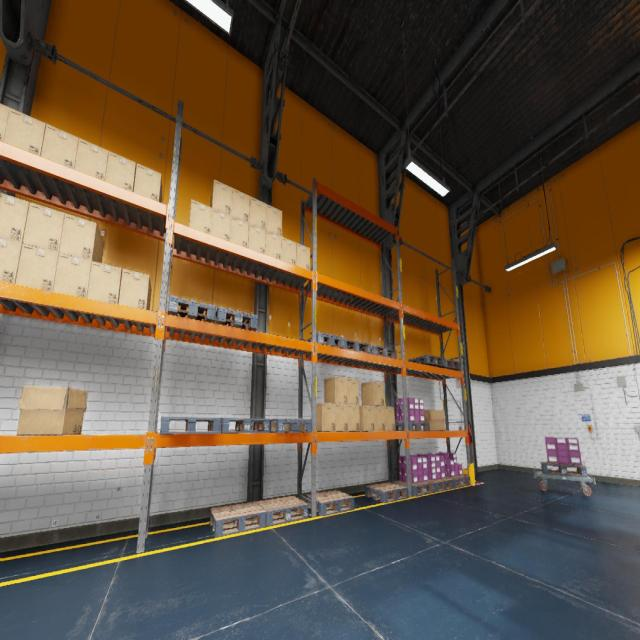box: (17, 386, 87, 435), (59, 214, 104, 262), (22, 202, 64, 253), (3, 108, 46, 156), (16, 244, 58, 291), (53, 252, 92, 298), (41, 124, 78, 169), (87, 261, 122, 304), (0, 192, 29, 243), (74, 138, 109, 180), (118, 268, 152, 310), (105, 151, 136, 192), (133, 163, 162, 202), (0, 238, 22, 284), (189, 199, 212, 234), (210, 179, 232, 215), (210, 208, 231, 241), (231, 188, 250, 223), (324, 376, 347, 404), (230, 216, 249, 248), (316, 402, 336, 432), (249, 196, 267, 229), (361, 381, 384, 406), (248, 224, 266, 254), (266, 204, 282, 236), (266, 230, 282, 260), (423, 409, 445, 430), (281, 236, 296, 265), (359, 405, 375, 431), (0, 103, 10, 141), (296, 243, 310, 270), (335, 404, 348, 432), (348, 404, 360, 432), (347, 378, 359, 404), (374, 405, 385, 431), (384, 406, 395, 431)
pallets: (209, 501, 266, 537), (256, 496, 308, 526), (168, 294, 216, 323), (306, 490, 354, 516), (214, 306, 258, 331), (160, 416, 220, 434), (365, 482, 408, 502), (540, 461, 588, 477), (220, 418, 270, 432), (395, 480, 435, 496), (306, 332, 344, 348), (270, 418, 311, 432), (418, 478, 454, 492), (336, 339, 371, 353), (408, 354, 445, 367), (438, 475, 471, 488), (430, 358, 460, 370), (371, 345, 396, 358), (395, 422, 429, 431)
